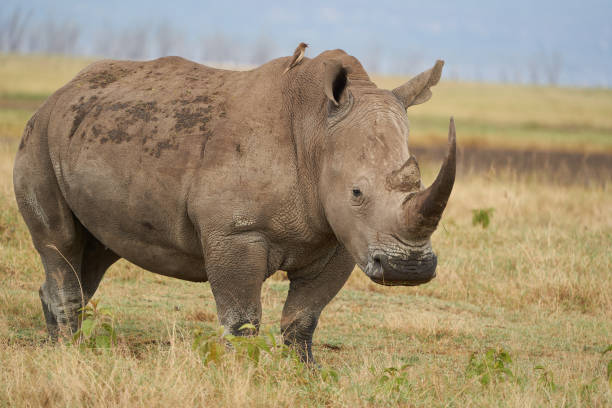rhino: (303, 49, 481, 299)
